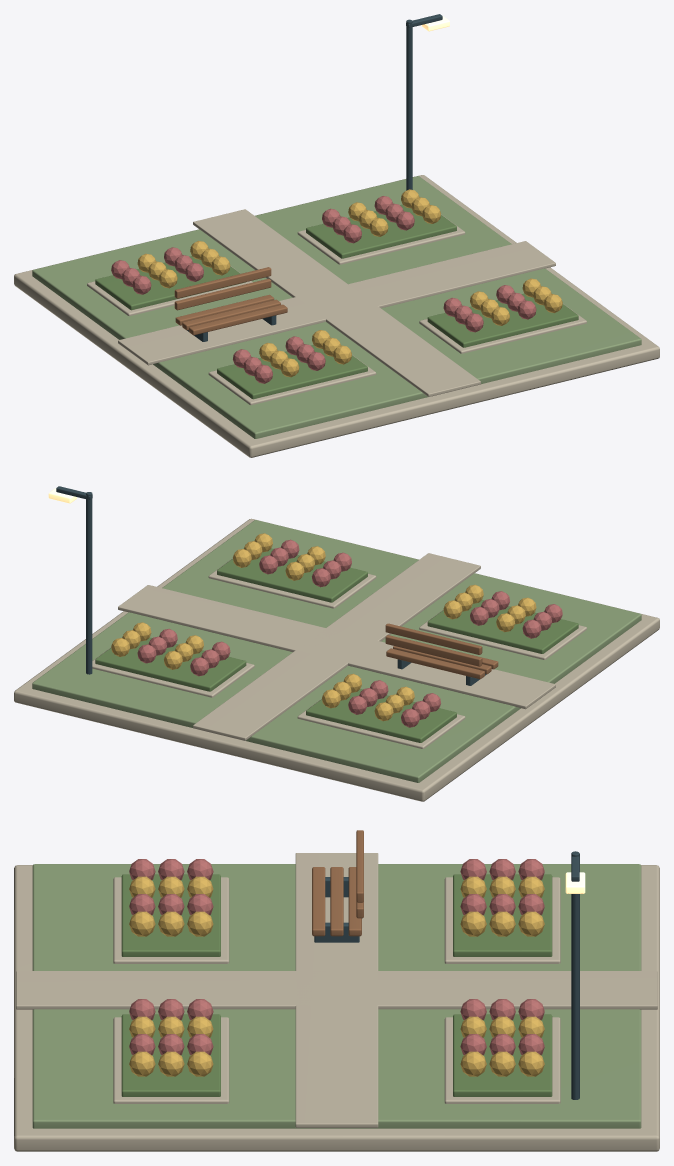
File: garden.glb
The picture shows the model from 3 angles, top to bottom: view 1: azimuth 30°, elevation 25°; view 2: azimuth 150°, elevation 25°; view 3: azimuth 270°, elevation 25°; orthographic projection. The views are drawn at different scales.
Parts seen in each view (by area): view 1: garden_Garden_Lawn, garden_Site_Paving, garden_Garden_Walk_Z, garden_Garden_Walk_X, garden_Plant_Soil.003, garden_Plant_Soil.001, garden_Plant_Soil.002, garden_Plant_Soil, garden_Lamp_Post, garden_Flowerbed.003, garden_Flowerbed.001, garden_Flowerbed.002 (+6 smaller); view 2: garden_Garden_Lawn, garden_Site_Paving, garden_Garden_Walk_Z, garden_Garden_Walk_X, garden_Plant_Soil.001, garden_Plant_Soil.003, garden_Plant_Soil.002, garden_Plant_Soil, garden_Lamp_Post, garden_Flowerbed, garden_Flowerbed.001, garden_Flowerbed.003 (+4 smaller); view 3: garden_Garden_Lawn, garden_Site_Paving, garden_Garden_Walk_Z, garden_Garden_Walk_X, garden_Plant_Soil, garden_Plant_Soil.001, garden_Plant_Soil.002, garden_Plant_Soil.003, garden_Flowerbed, garden_Flowerbed.001, garden_Flowerbed.002, garden_Flowerbed.003 (+18 smaller).
Part boxes in pixels (x1,y1,x2,y2): garden_Garden_Lawn: (32, 176, 641, 438); garden_Site_Paving: (14, 175, 659, 457); garden_Garden_Walk_Z: (193, 209, 480, 396); garden_Garden_Walk_X: (118, 241, 555, 365); garden_Plant_Soil.003: (427, 293, 578, 347); garden_Plant_Soil.001: (217, 345, 367, 399); garden_Plant_Soil.002: (306, 204, 456, 258); garden_Plant_Soil: (95, 256, 245, 310); garden_Lamp_Post: (406, 19, 412, 190); garden_Flowerbed.003: (419, 304, 586, 353); garden_Flowerbed.001: (208, 355, 376, 405); garden_Flowerbed.002: (297, 214, 465, 264); garden_Garden_Lawn: (32, 520, 641, 782); garden_Site_Paving: (14, 518, 659, 801); garden_Garden_Walk_Z: (193, 553, 480, 740); garden_Garden_Walk_X: (118, 585, 555, 709); garden_Plant_Soil.001: (427, 600, 578, 653); garden_Plant_Soil.003: (217, 548, 367, 602); garden_Plant_Soil.002: (95, 637, 246, 691); garden_Plant_Soil: (306, 689, 456, 742); garden_Lamp_Post: (86, 492, 92, 674); garden_Flowerbed: (297, 699, 465, 748); garden_Flowerbed.001: (419, 610, 586, 659); garden_Flowerbed.003: (208, 558, 376, 608); garden_Garden_Lawn: (32, 864, 641, 1128); garden_Site_Paving: (14, 865, 659, 1151); garden_Garden_Walk_Z: (16, 971, 657, 1009); garden_Garden_Walk_X: (295, 853, 378, 1127); garden_Plant_Soil: (453, 874, 552, 956); garden_Plant_Soil.001: (121, 874, 220, 956); garden_Plant_Soil.002: (453, 1014, 552, 1096); garden_Plant_Soil.003: (121, 1014, 220, 1096); garden_Flowerbed: (444, 877, 560, 963); garden_Flowerbed.001: (113, 877, 229, 963); garden_Flowerbed.002: (444, 1017, 560, 1103); garden_Flowerbed.003: (113, 1017, 229, 1103).
Bounding box in the file's own units: 7.8 × 3.6 × 7.8.
